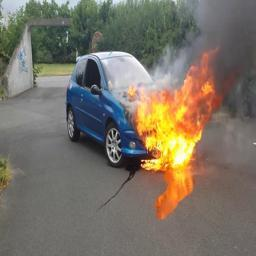fire: (129, 48, 224, 171)
